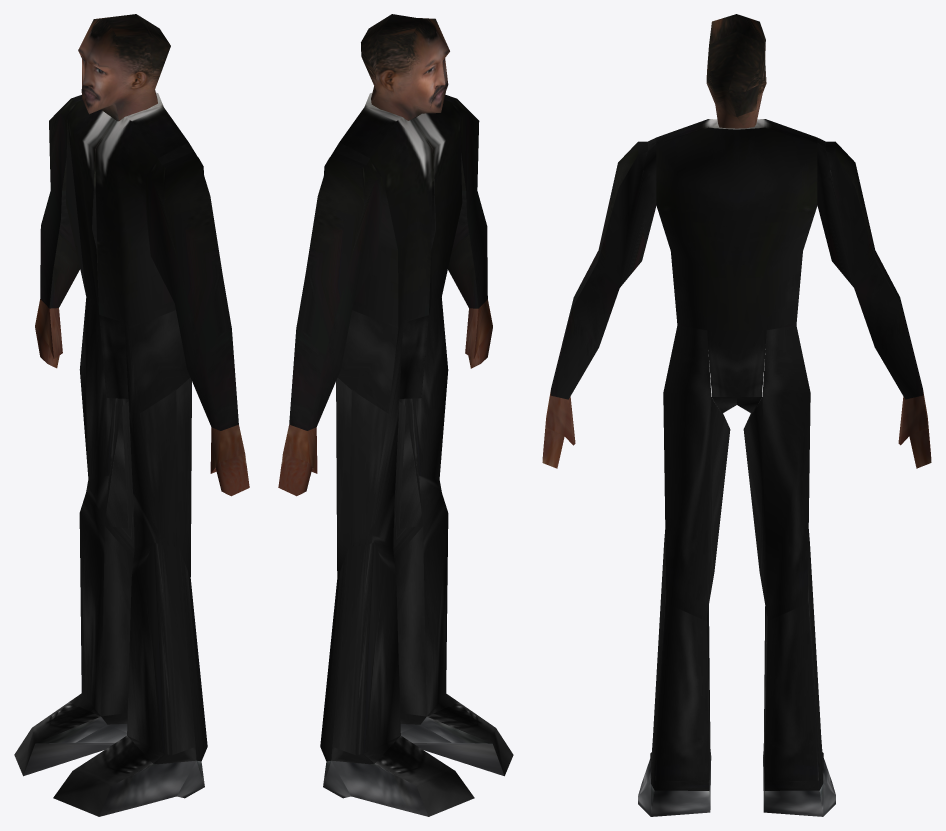
The model's file is actor_jordan.obj.
3 renders of one model, left to right at view 1: azimuth 30°, elevation 25°; view 2: azimuth 150°, elevation 25°; view 3: azimuth 270°, elevation 25°, orthographic. The views are drawn at different scales.
Visible parts, largest first — view 1: obj1, obj2; view 2: obj1, obj2; view 3: obj1, obj2.
Part boxes in pixels (left/top/right/bottom): obj1: left=14, top=92, right=249, bottom=816; obj2: left=78, top=14, right=170, bottom=121; obj1: left=278, top=93, right=513, bottom=816; obj2: left=361, top=14, right=449, bottom=120; obj1: left=542, top=119, right=931, bottom=816; obj2: left=706, top=14, right=766, bottom=128.
Bounding box in the file's own units: 0.2494 × 1.35 × 0.6135.
2 materials, 2 textured.
